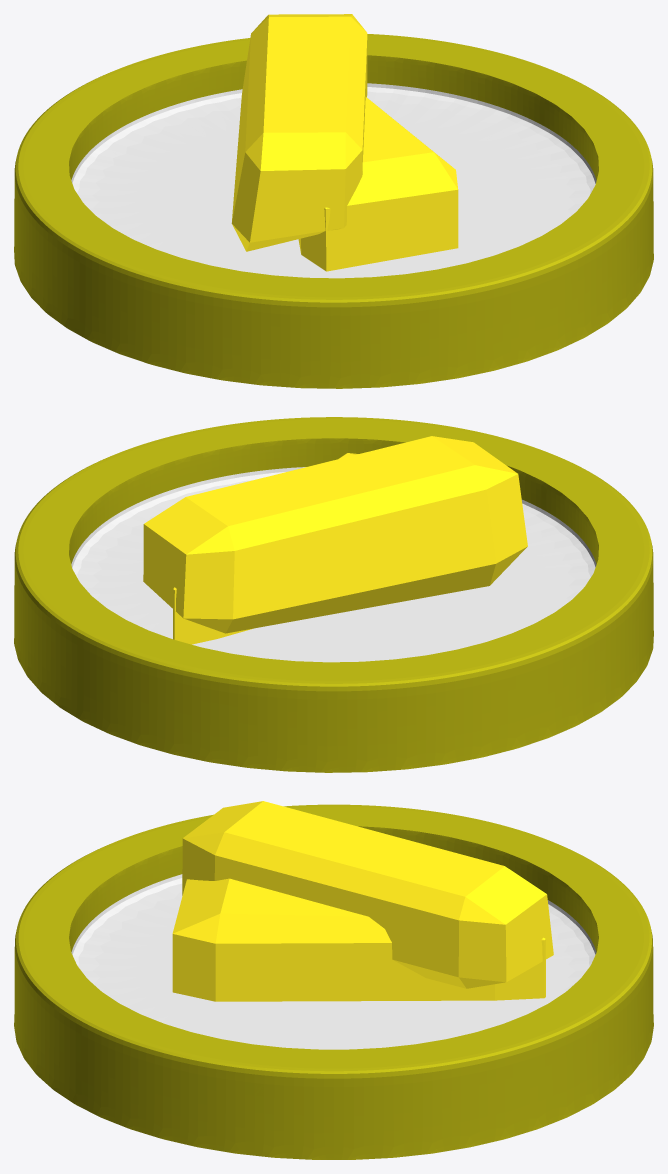
File: GoldToken.fbx
The picture shows the model from 3 angles, top to bottom: view 1: azimuth 30°, elevation 25°; view 2: azimuth 150°, elevation 25°; view 3: azimuth 270°, elevation 25°; orthographic projection.
Visible parts, largest first — view 1: 원형, Circle; view 2: 원형, Circle; view 3: 원형, Circle.
Part boxes in pixels (left/top/right/bottom): 원형: left=14, top=34, right=653, bottom=388; Circle: left=231, top=14, right=458, bottom=271; 원형: left=14, top=417, right=653, bottom=772; Circle: left=143, top=436, right=527, bottom=644; 원형: left=14, top=804, right=653, bottom=1159; Circle: left=172, top=801, right=553, bottom=1001.
Bounding box in the file's own units: 200 × 59.39 × 200.
